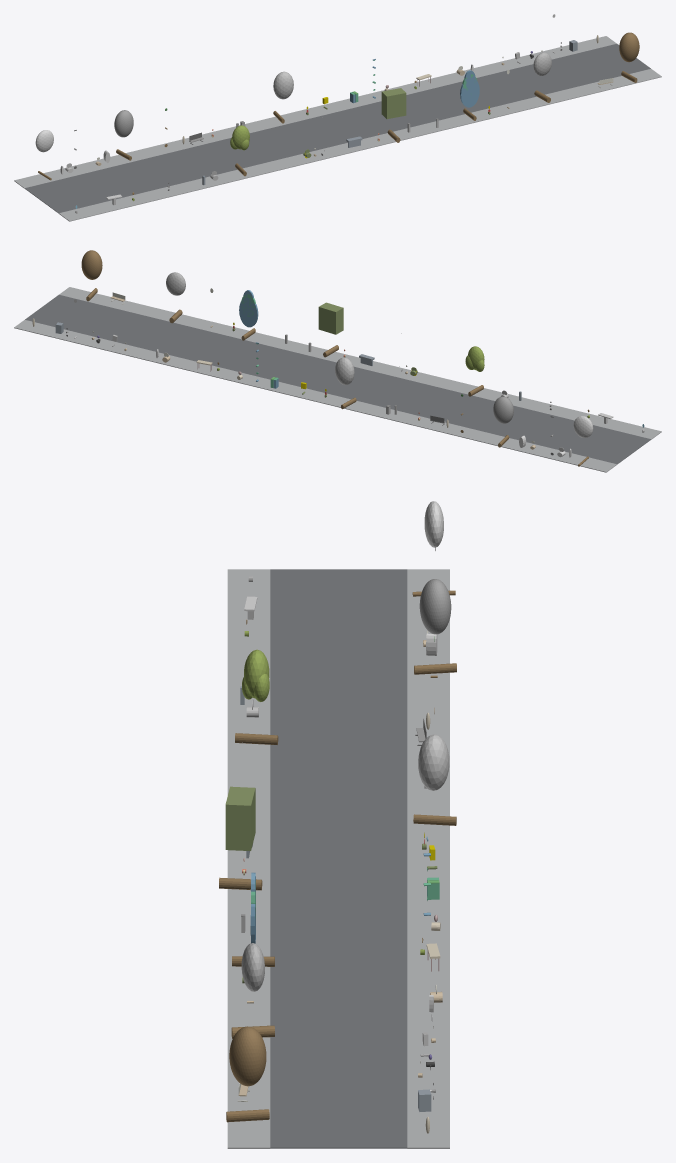
The picture shows the model from 3 angles, top to bottom: view 1: azimuth 30°, elevation 25°; view 2: azimuth 150°, elevation 25°; view 3: azimuth 270°, elevation 25°; orthographic projection. The views are drawn at different scales.
Parts seen in each view (by area): view 1: road_slab, sidewalk_left, sidewalk_right, inst_0022, inst_0023, inst_0025, inst_0021, inst_0019, inst_0020, inst_0024, inst_0018; view 2: road_slab, sidewalk_right, sidewalk_left, inst_0022, inst_0023, inst_0025, inst_0019, inst_0021, inst_0020, inst_0024, inst_0018; view 3: road_slab, sidewalk_right, sidewalk_left, inst_0022, inst_0025, inst_0021, inst_0019, inst_0020, inst_0024.
Boxes of the visible parts, x1,y1,x2,y2 form: road_slab: (25, 44, 650, 213); sidewalk_left: (59, 69, 661, 221); sidewalk_right: (14, 36, 616, 188); inst_0022: (381, 88, 406, 142); inst_0023: (460, 70, 479, 120); inst_0025: (619, 32, 639, 82); inst_0021: (273, 71, 293, 123); inst_0019: (114, 110, 133, 160); inst_0020: (230, 125, 249, 176); inst_0024: (533, 52, 551, 102); inst_0018: (35, 130, 53, 180); road_slab: (25, 295, 650, 464); sidewalk_right: (14, 320, 616, 472); sidewalk_left: (59, 287, 661, 439); inst_0022: (318, 302, 343, 357); inst_0023: (239, 290, 258, 340); inst_0025: (81, 250, 102, 301); inst_0019: (493, 396, 513, 447); inst_0021: (335, 357, 356, 409); inst_0020: (465, 346, 484, 396); inst_0024: (166, 272, 185, 323); inst_0018: (573, 416, 593, 466); road_slab: (270, 569, 407, 1148); sidewalk_right: (407, 569, 449, 1148); sidewalk_left: (227, 569, 270, 1148); inst_0022: (219, 786, 262, 890); inst_0025: (226, 1026, 269, 1122); inst_0021: (413, 734, 456, 825); inst_0019: (414, 579, 456, 674); inst_0020: (235, 649, 278, 744); inst_0024: (231, 943, 274, 1038).
Size of the model in its own units: 80 by 6.08 by 13.94.
